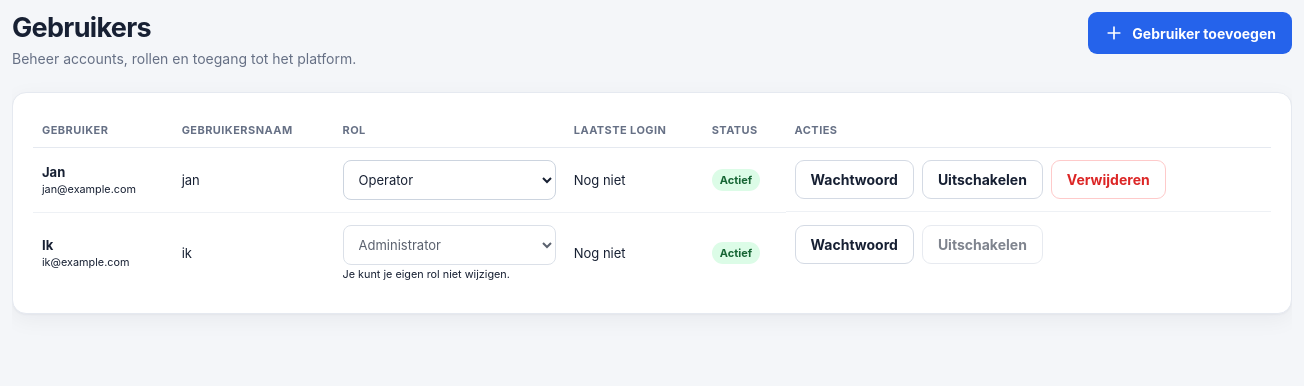
gebruikersbeheer interface › vraagt bevestiging en verwijdert een andere gebruiker definitief
Expected: the text "Jan" is shown, [42, 164, 65, 180]
Step 1. Click the button with aria-label "Gebruiker Jan verwijderen" → (1108, 180), box [1051, 160, 1166, 199]
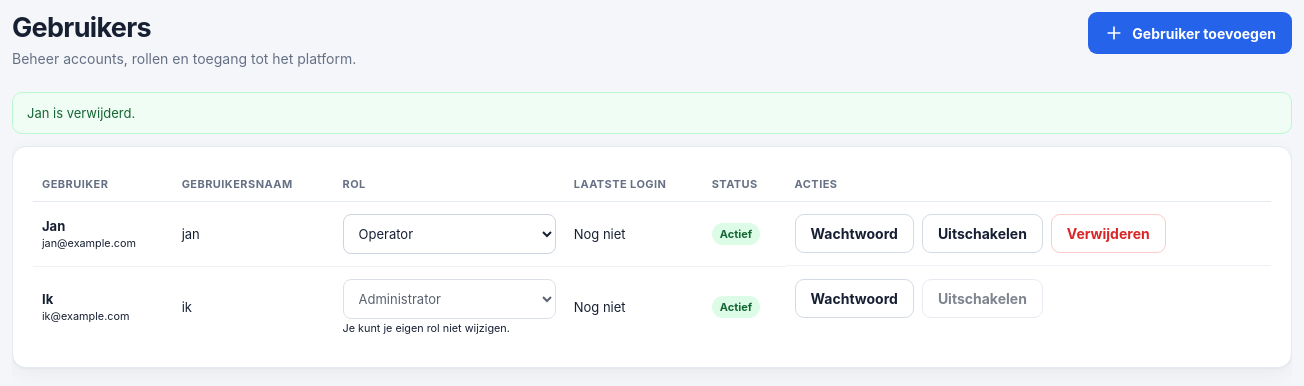
Result: the text "Jan is verwijderd." is shown at [12, 92, 1292, 134]
